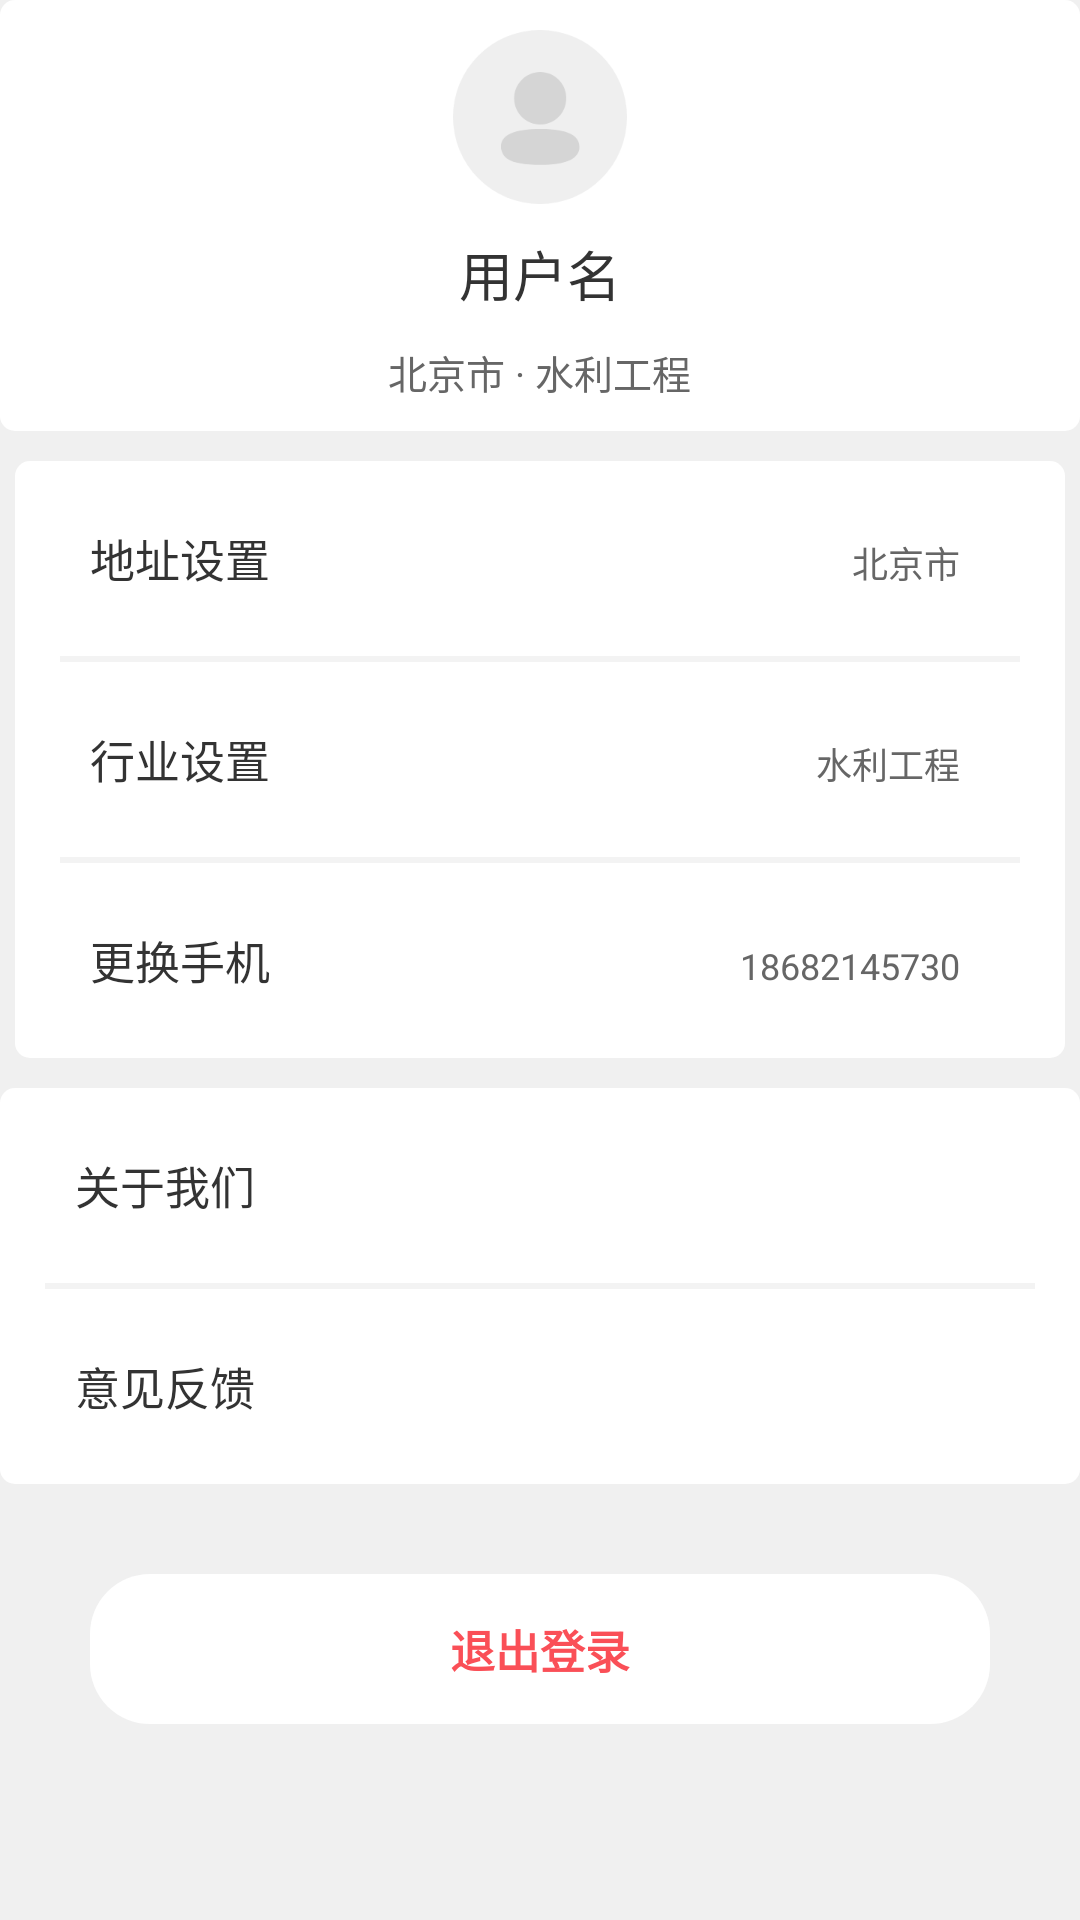

Named icons in this screenshot (1080×1920) and their centers, [x,y]:
mine poto: [540,118]
